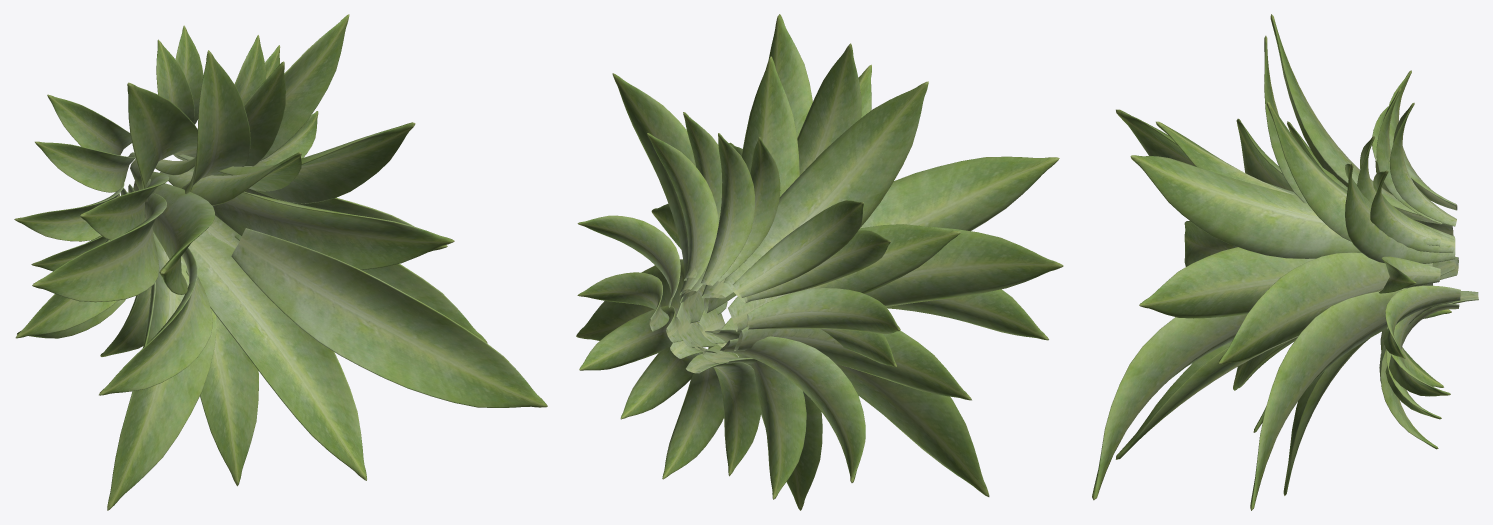
Rendered from PineappleFruitLeaf.obj.
The picture shows the model from 3 angles, left to right: view 1: azimuth 30°, elevation 25°; view 2: azimuth 150°, elevation 25°; view 3: azimuth 270°, elevation 25°; orthographic projection. The views are drawn at different scales.
Parts seen in each view (by area): view 1: PineappleFruitLeaf; view 2: PineappleFruitLeaf; view 3: PineappleFruitLeaf.
Part boxes in pixels (box(x1,y1,x2,y2)): PineappleFruitLeaf: box(14, 14, 547, 510); PineappleFruitLeaf: box(576, 14, 1063, 510); PineappleFruitLeaf: box(1092, 14, 1478, 510).
Size of the model in its own units: 0.2031 by 0.19 by 0.1506.
Materials: 1 (1 with a texture image).
